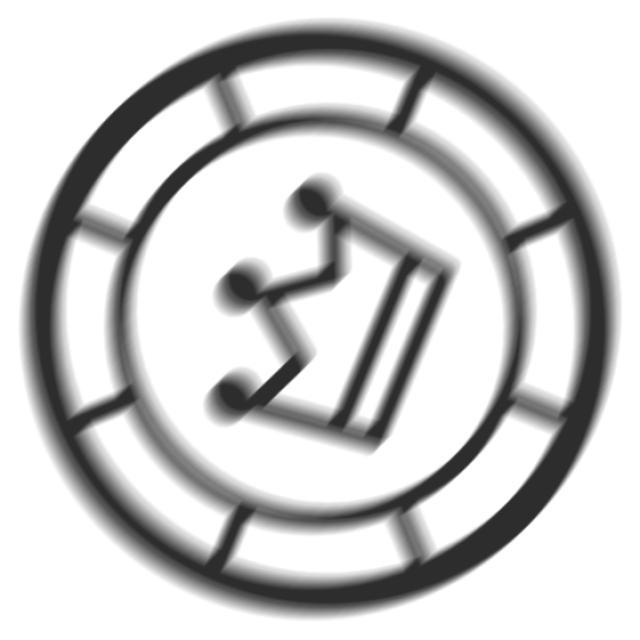coin: (14, 12, 627, 631)
